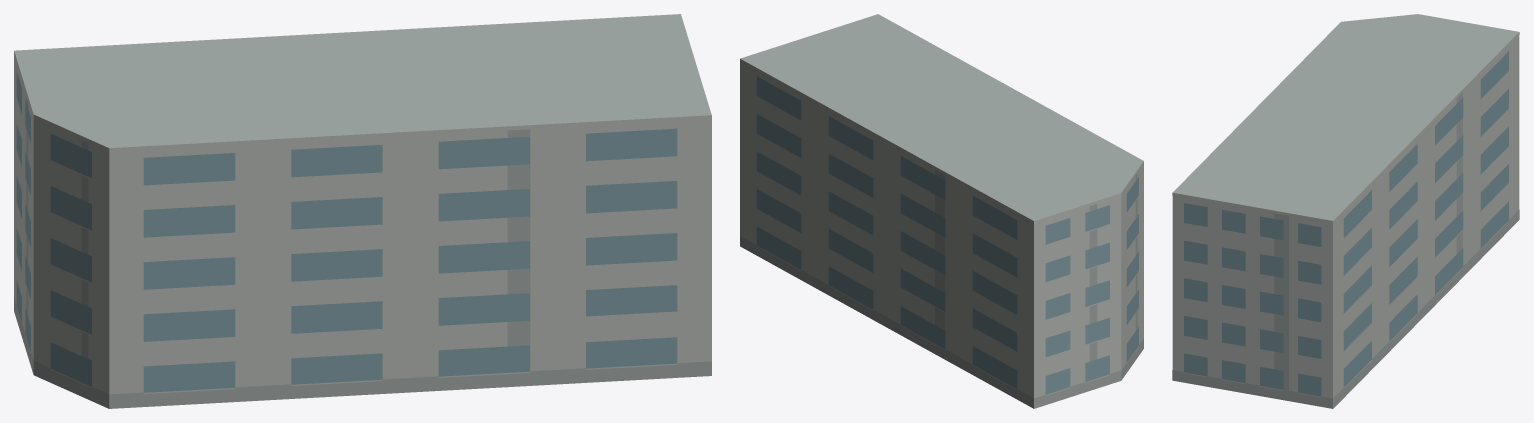
File: residential-c45f6096-d9d4-4c10-a66f-a5ba5ff5c452.glb
3 views of the same model, side by side, from view 1: azimuth 30°, elevation 25°; view 2: azimuth 150°, elevation 25°; view 3: azimuth 270°, elevation 25° (orthographic). The views are drawn at different scales.
Parts seen in each view (by area): view 1: residential-c45f6096-d9d4-4c10-a66f-a5ba5ff5c452.tmp; view 2: residential-c45f6096-d9d4-4c10-a66f-a5ba5ff5c452.tmp; view 3: residential-c45f6096-d9d4-4c10-a66f-a5ba5ff5c452.tmp.
Boxes of the visible parts, bbox=[...] form: residential-c45f6096-d9d4-4c10-a66f-a5ba5ff5c452.tmp: bbox=[14, 14, 711, 408]; residential-c45f6096-d9d4-4c10-a66f-a5ba5ff5c452.tmp: bbox=[740, 14, 1143, 408]; residential-c45f6096-d9d4-4c10-a66f-a5ba5ff5c452.tmp: bbox=[1172, 14, 1519, 408].
Bounding box in the file's own units: 36.02 × 15.25 × 25.53.
